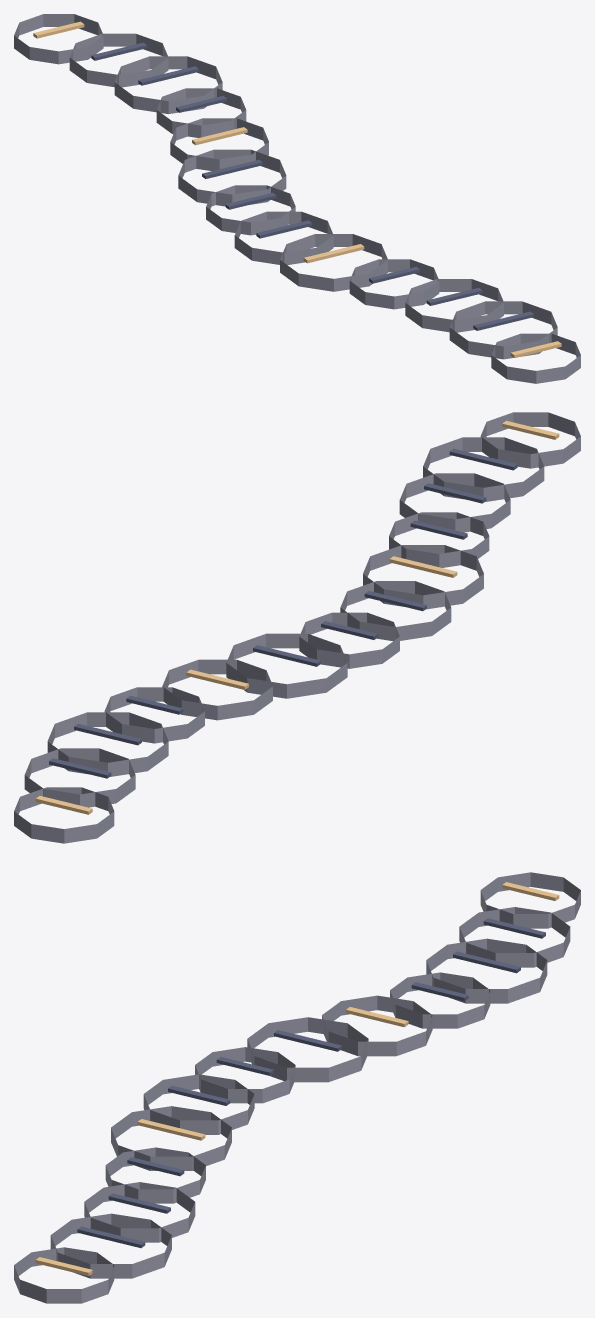
The model's file is v07_moonfall_stepping_stones_lod0.glb.
The picture shows the model from 3 angles, top to bottom: view 1: azimuth 30°, elevation 25°; view 2: azimuth 150°, elevation 25°; view 3: azimuth 330°, elevation 25°; orthographic projection. The views are drawn at different scales.
Visible parts, largest first — view 1: moonfall_stepping_stones; view 2: moonfall_stepping_stones; view 3: moonfall_stepping_stones.
Boxes of the visible parts, x1=… form: moonfall_stepping_stones: x1=14, y1=14, x2=580, y2=383; moonfall_stepping_stones: x1=14, y1=412, x2=580, y2=843; moonfall_stepping_stones: x1=14, y1=872, x2=580, y2=1303.
Size of the model in its own units: 3.33 by 0.33 by 17.82.
